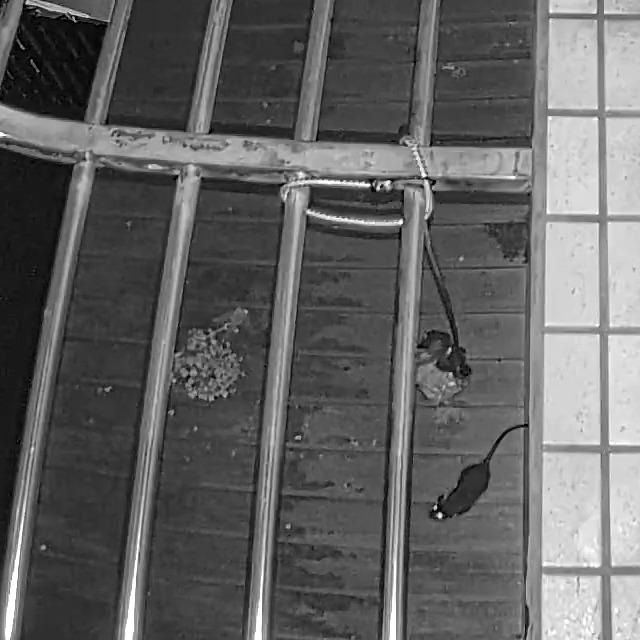rat: (426, 422, 530, 523)
